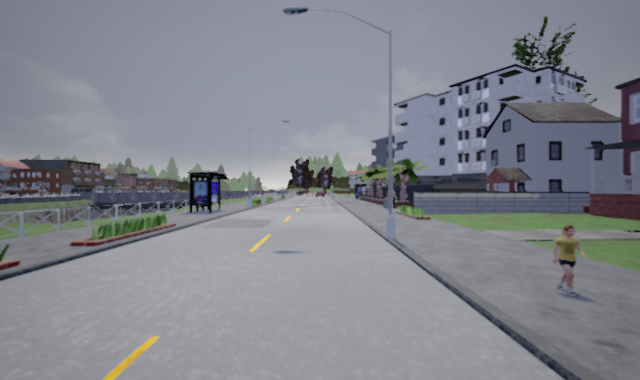pedestrian: (550, 223, 590, 294)
